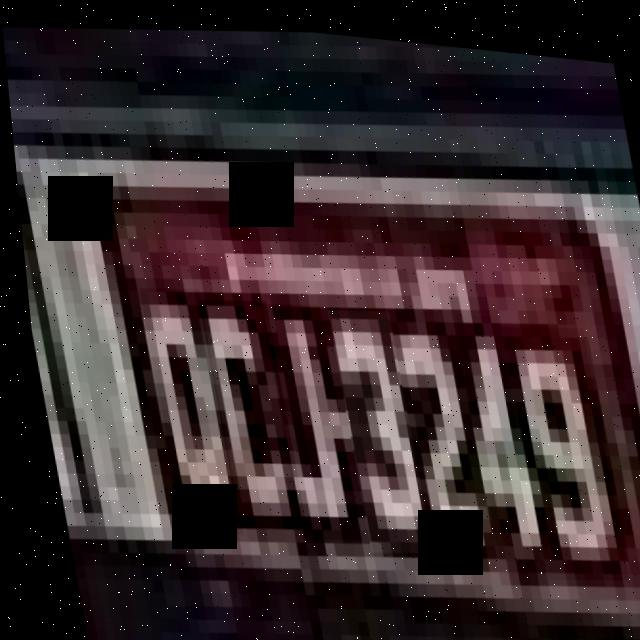3: (321, 299, 423, 551)
4: (449, 302, 530, 555)
9: (495, 309, 618, 575)
C: (192, 290, 297, 528)
J: (254, 294, 352, 539)
Q: (133, 280, 233, 535)
